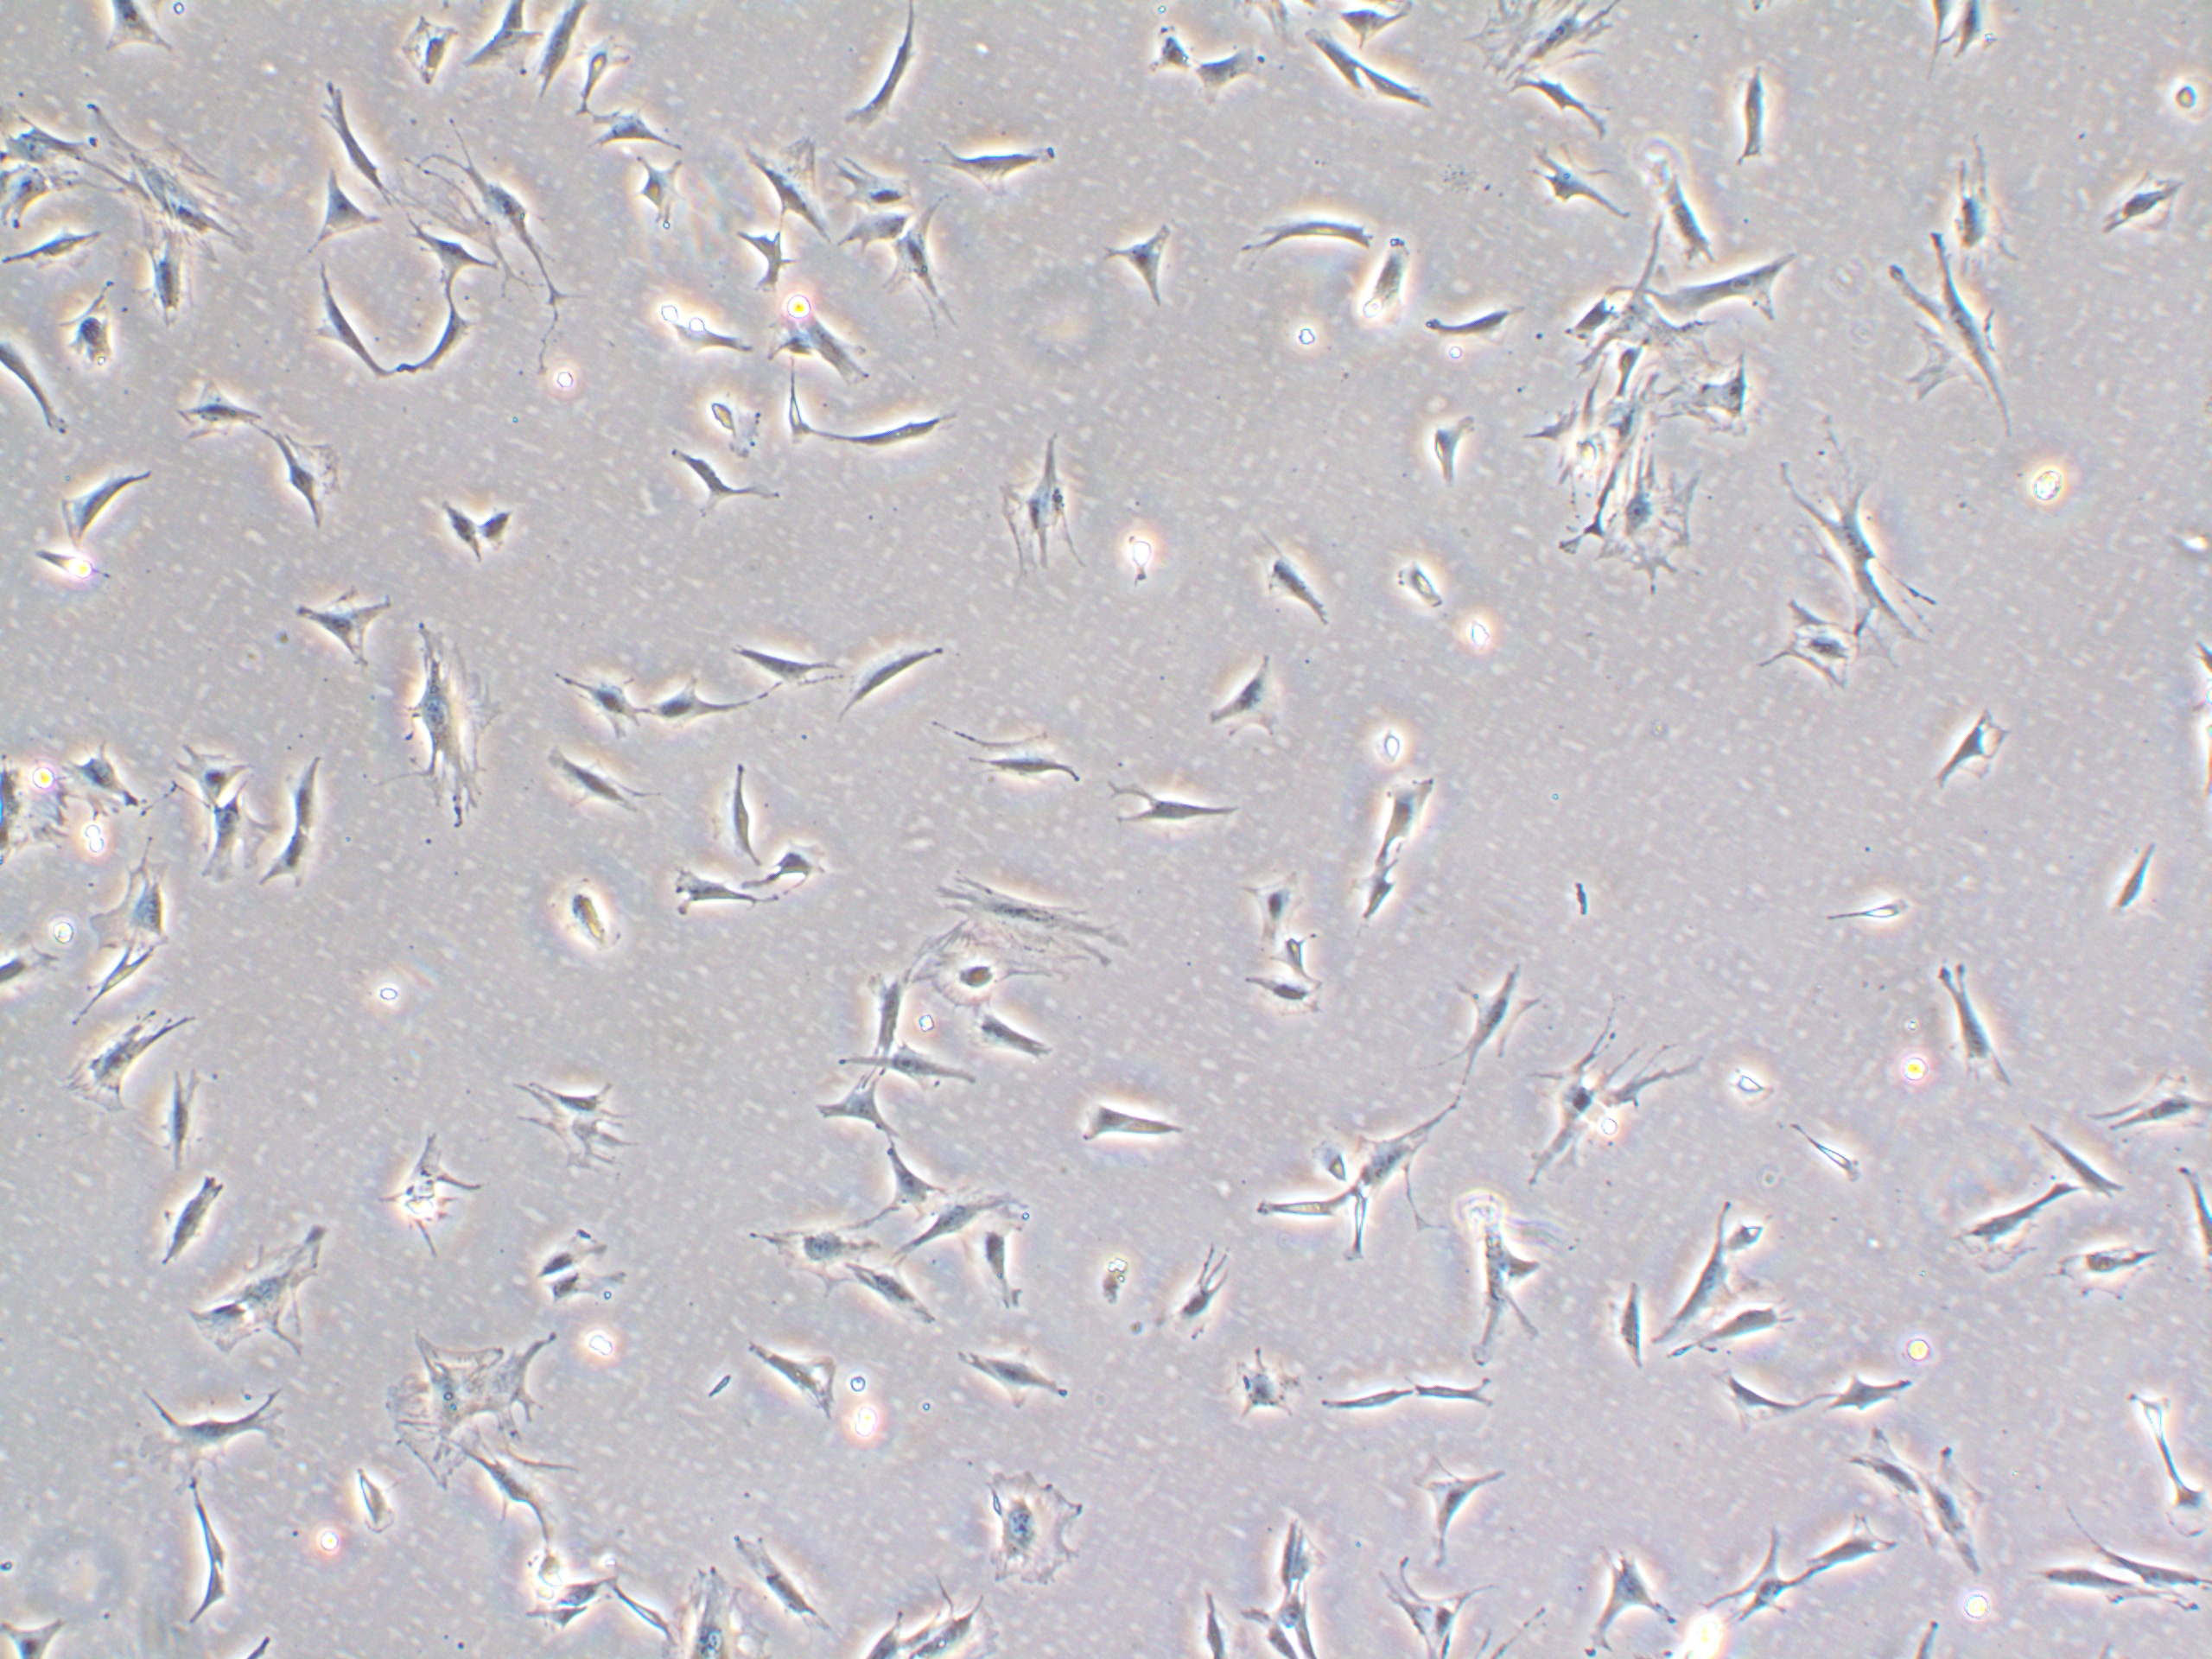Etc: (2111, 1364, 2189, 1471), (1780, 887, 1919, 941), (1791, 1126, 1885, 1197), (604, 1567, 672, 1643), (777, 357, 829, 451)
polygonal: (512, 1054, 658, 1222), (113, 1373, 293, 1502), (44, 1002, 195, 1145), (1921, 941, 2048, 1100), (460, 155, 587, 312), (2041, 1486, 2207, 1596), (120, 1169, 253, 1302), (1655, 1195, 1759, 1363), (1886, 701, 2008, 843), (1343, 1079, 1475, 1208), (1930, 1169, 2073, 1288), (2066, 812, 2193, 945), (928, 718, 1101, 816), (993, 423, 1083, 599), (1451, 1197, 1538, 1380), (1568, 1532, 1700, 1652), (740, 1195, 885, 1303), (30, 439, 171, 545), (1395, 1441, 1514, 1563), (1444, 957, 1559, 1082), (939, 124, 1097, 213), (1702, 1516, 1804, 1650), (164, 1473, 246, 1640), (840, 626, 960, 739), (1662, 239, 1806, 331), (314, 71, 415, 202), (728, 1518, 840, 1635), (301, 270, 399, 399), (467, 1439, 580, 1549), (939, 1333, 1104, 1408), (1716, 54, 1811, 183), (829, 397, 970, 484), (1245, 523, 1350, 640), (892, 213, 982, 347), (303, 566, 411, 678), (75, 849, 186, 957), (1223, 197, 1379, 274), (885, 1171, 1028, 1255), (2029, 1556, 2196, 1628), (1505, 139, 1639, 228), (1094, 199, 1186, 328), (2005, 1121, 2134, 1213), (852, 1037, 989, 1122), (535, 749, 669, 836), (831, 10, 921, 138), (554, 638, 657, 748), (738, 1333, 860, 1425), (1724, 1361, 1851, 1448), (2073, 162, 2207, 244), (740, 120, 838, 232), (1369, 1565, 1484, 1659), (1392, 281, 1529, 359), (1062, 1096, 1205, 1171), (958, 1215, 1059, 1316), (282, 157, 385, 256), (1292, 1358, 1426, 1432), (1355, 763, 1479, 843), (1087, 775, 1264, 831), (1806, 1504, 1914, 1595), (1200, 657, 1310, 746), (723, 622, 833, 711), (843, 932, 920, 1058), (636, 871, 777, 939), (1642, 159, 1730, 268), (167, 368, 277, 455), (1507, 66, 1620, 150), (380, 303, 479, 397), (150, 727, 237, 831), (1665, 1303, 1794, 1373), (2080, 1068, 2205, 1140), (657, 301, 773, 378), (801, 1063, 909, 1145), (265, 430, 347, 537), (697, 755, 773, 868), (735, 836, 853, 910), (1163, 1249, 1233, 1373), (0, 333, 84, 436), (1355, 209, 1418, 342), (195, 789, 266, 904), (1226, 1359, 1317, 1450), (848, 1258, 949, 1338), (1346, 840, 1425, 943), (1838, 1422, 1926, 1513), (1820, 1359, 1921, 1438), (507, 1206, 608, 1281), (2033, 1236, 2153, 1298), (662, 446, 751, 530), (0, 209, 99, 281), (881, 1136, 954, 1229), (523, 7, 596, 99), (982, 999, 1064, 1080), (629, 152, 705, 239), (1240, 1180, 1355, 1237), (716, 216, 792, 300), (578, 106, 693, 162), (1421, 404, 1496, 490), (1359, 54, 1444, 127), (289, 721, 341, 838), (157, 1056, 207, 1176), (1594, 1270, 1646, 1385), (657, 669, 732, 746), (1299, 26, 1378, 99), (1346, 1190, 1397, 1303), (408, 220, 489, 289), (812, 321, 881, 399), (425, 479, 481, 575), (1404, 1373, 1512, 1422), (453, 5, 524, 77), (533, 1270, 615, 1330), (68, 303, 129, 380), (1188, 37, 1240, 122), (253, 836, 315, 899), (474, 497, 528, 547)
small-round: (1369, 526, 1451, 633), (1723, 1054, 1796, 1127), (2144, 59, 2212, 125), (1108, 528, 1176, 589), (1350, 718, 1418, 775), (1264, 931, 1331, 974)
spread: (1775, 432, 1942, 690), (361, 598, 528, 843), (362, 1316, 575, 1504), (61, 94, 273, 275), (1883, 225, 2040, 455), (963, 1450, 1123, 1626), (914, 866, 1158, 976), (1911, 112, 2034, 305), (185, 1213, 340, 1364), (1514, 373, 1670, 498), (885, 915, 1064, 1021), (1909, 1445, 2017, 1581), (1595, 472, 1719, 591), (1482, 0, 1622, 98), (1658, 343, 1782, 432)
